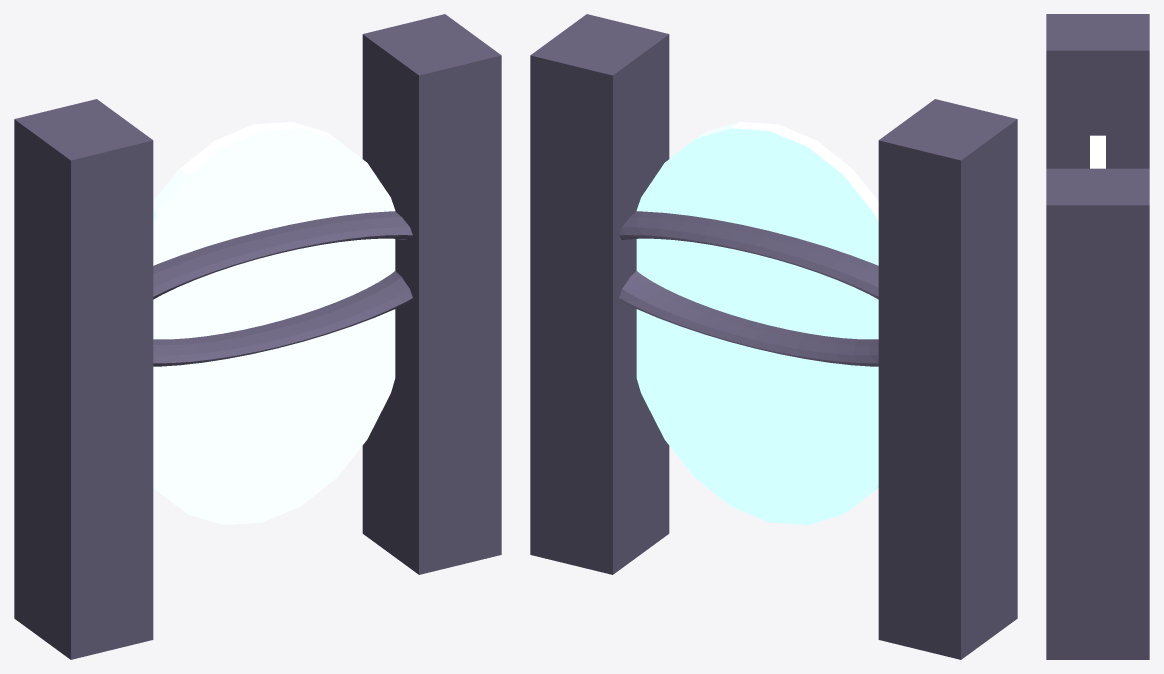
Rendered from arcane_portal_gate.glb.
3 renders of one model, left to right at view 1: azimuth 30°, elevation 25°; view 2: azimuth 150°, elevation 25°; view 3: azimuth 270°, elevation 25°, orthographic. The views are drawn at different scales.
Visible parts, largest first — view 1: Cube, Cylinder, Cube.001, Torus; view 2: Cube, Cylinder, Cube.001, Torus; view 3: Cube.001, Cube, Cylinder.
Part boxes in pixels (<box>): Cube: <box>14,99,153,659</box>; Cylinder: <box>153,121,395,525</box>; Cube.001: <box>362,14,501,574</box>; Torus: <box>153,211,412,366</box>; Cube: <box>878,99,1017,659</box>; Cylinder: <box>636,121,878,525</box>; Cube.001: <box>530,14,669,574</box>; Torus: <box>619,211,878,366</box>; Cube.001: <box>1046,168,1149,659</box>; Cube: <box>1046,14,1149,168</box>; Cylinder: <box>1090,135,1105,168</box>.
Size of the model in its own units: 3.34 by 3.7 by 0.76.
